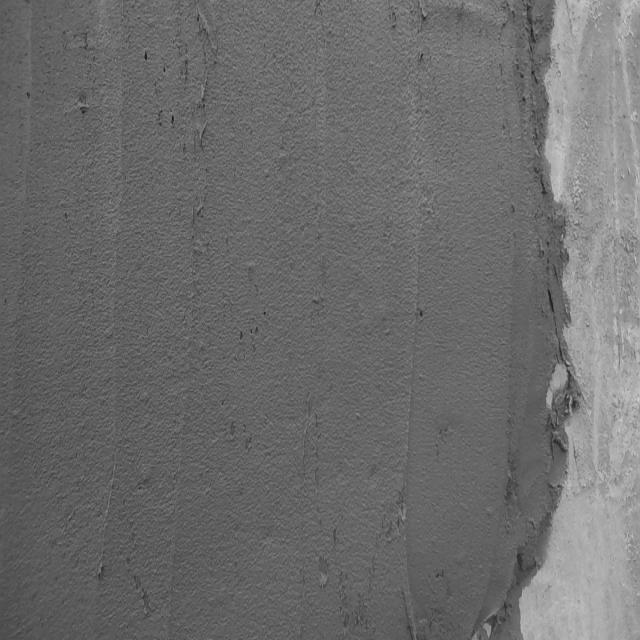trowels marks: (401, 237, 420, 640), (194, 3, 211, 234)
